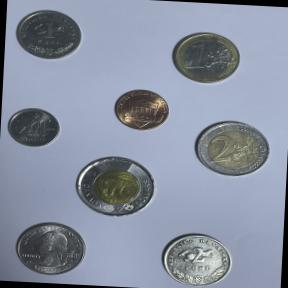coin: (70, 150, 161, 222), (189, 115, 276, 183), (156, 226, 238, 288), (165, 27, 246, 88), (10, 218, 90, 279), (0, 103, 65, 155), (108, 86, 174, 136)
